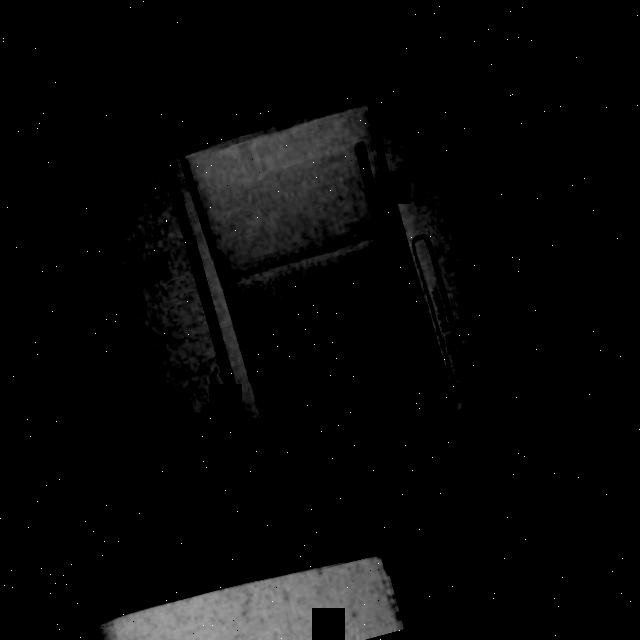box: (180, 98, 471, 524), (0, 54, 272, 495), (346, 0, 630, 415)
